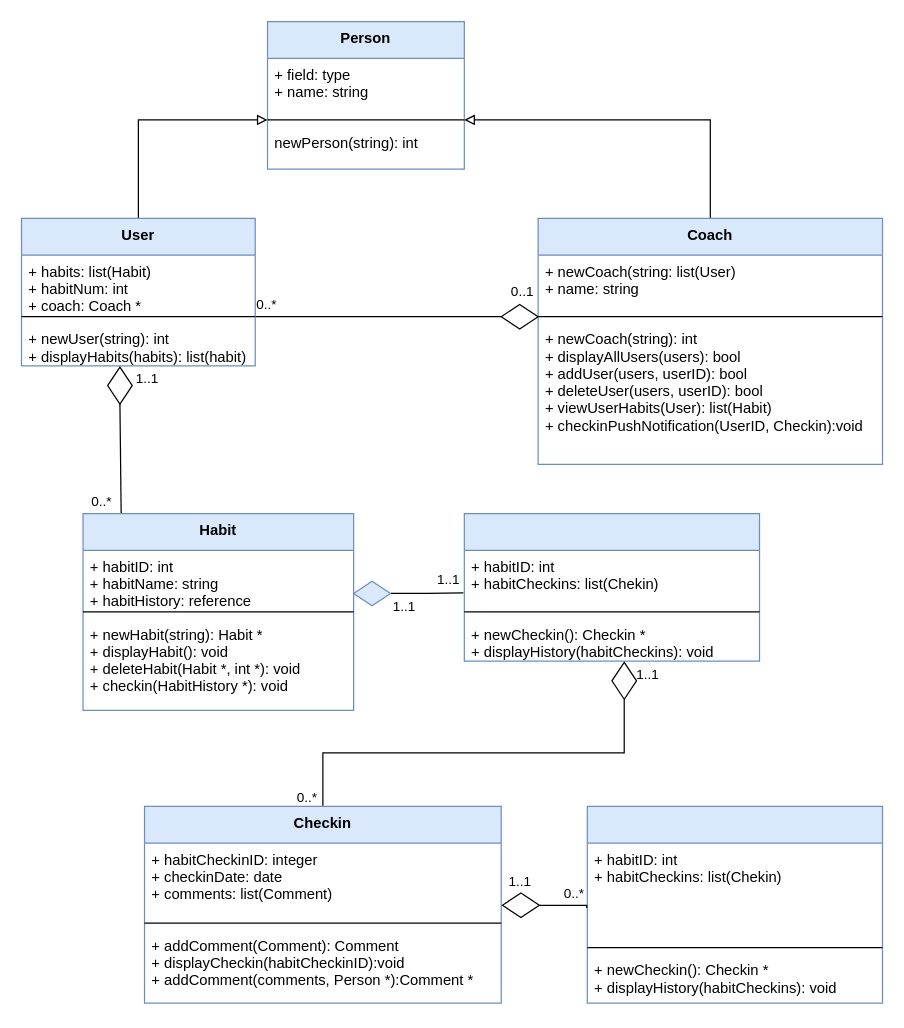
Some shapes in this 904 by 1028 pixel diagram are drawn without their labels. The box of each missing label's shape, as (x1, y1, x2, y2) in pixels:
Comment: (586, 805, 883, 1003)
HabitHistory: (463, 512, 760, 661)
